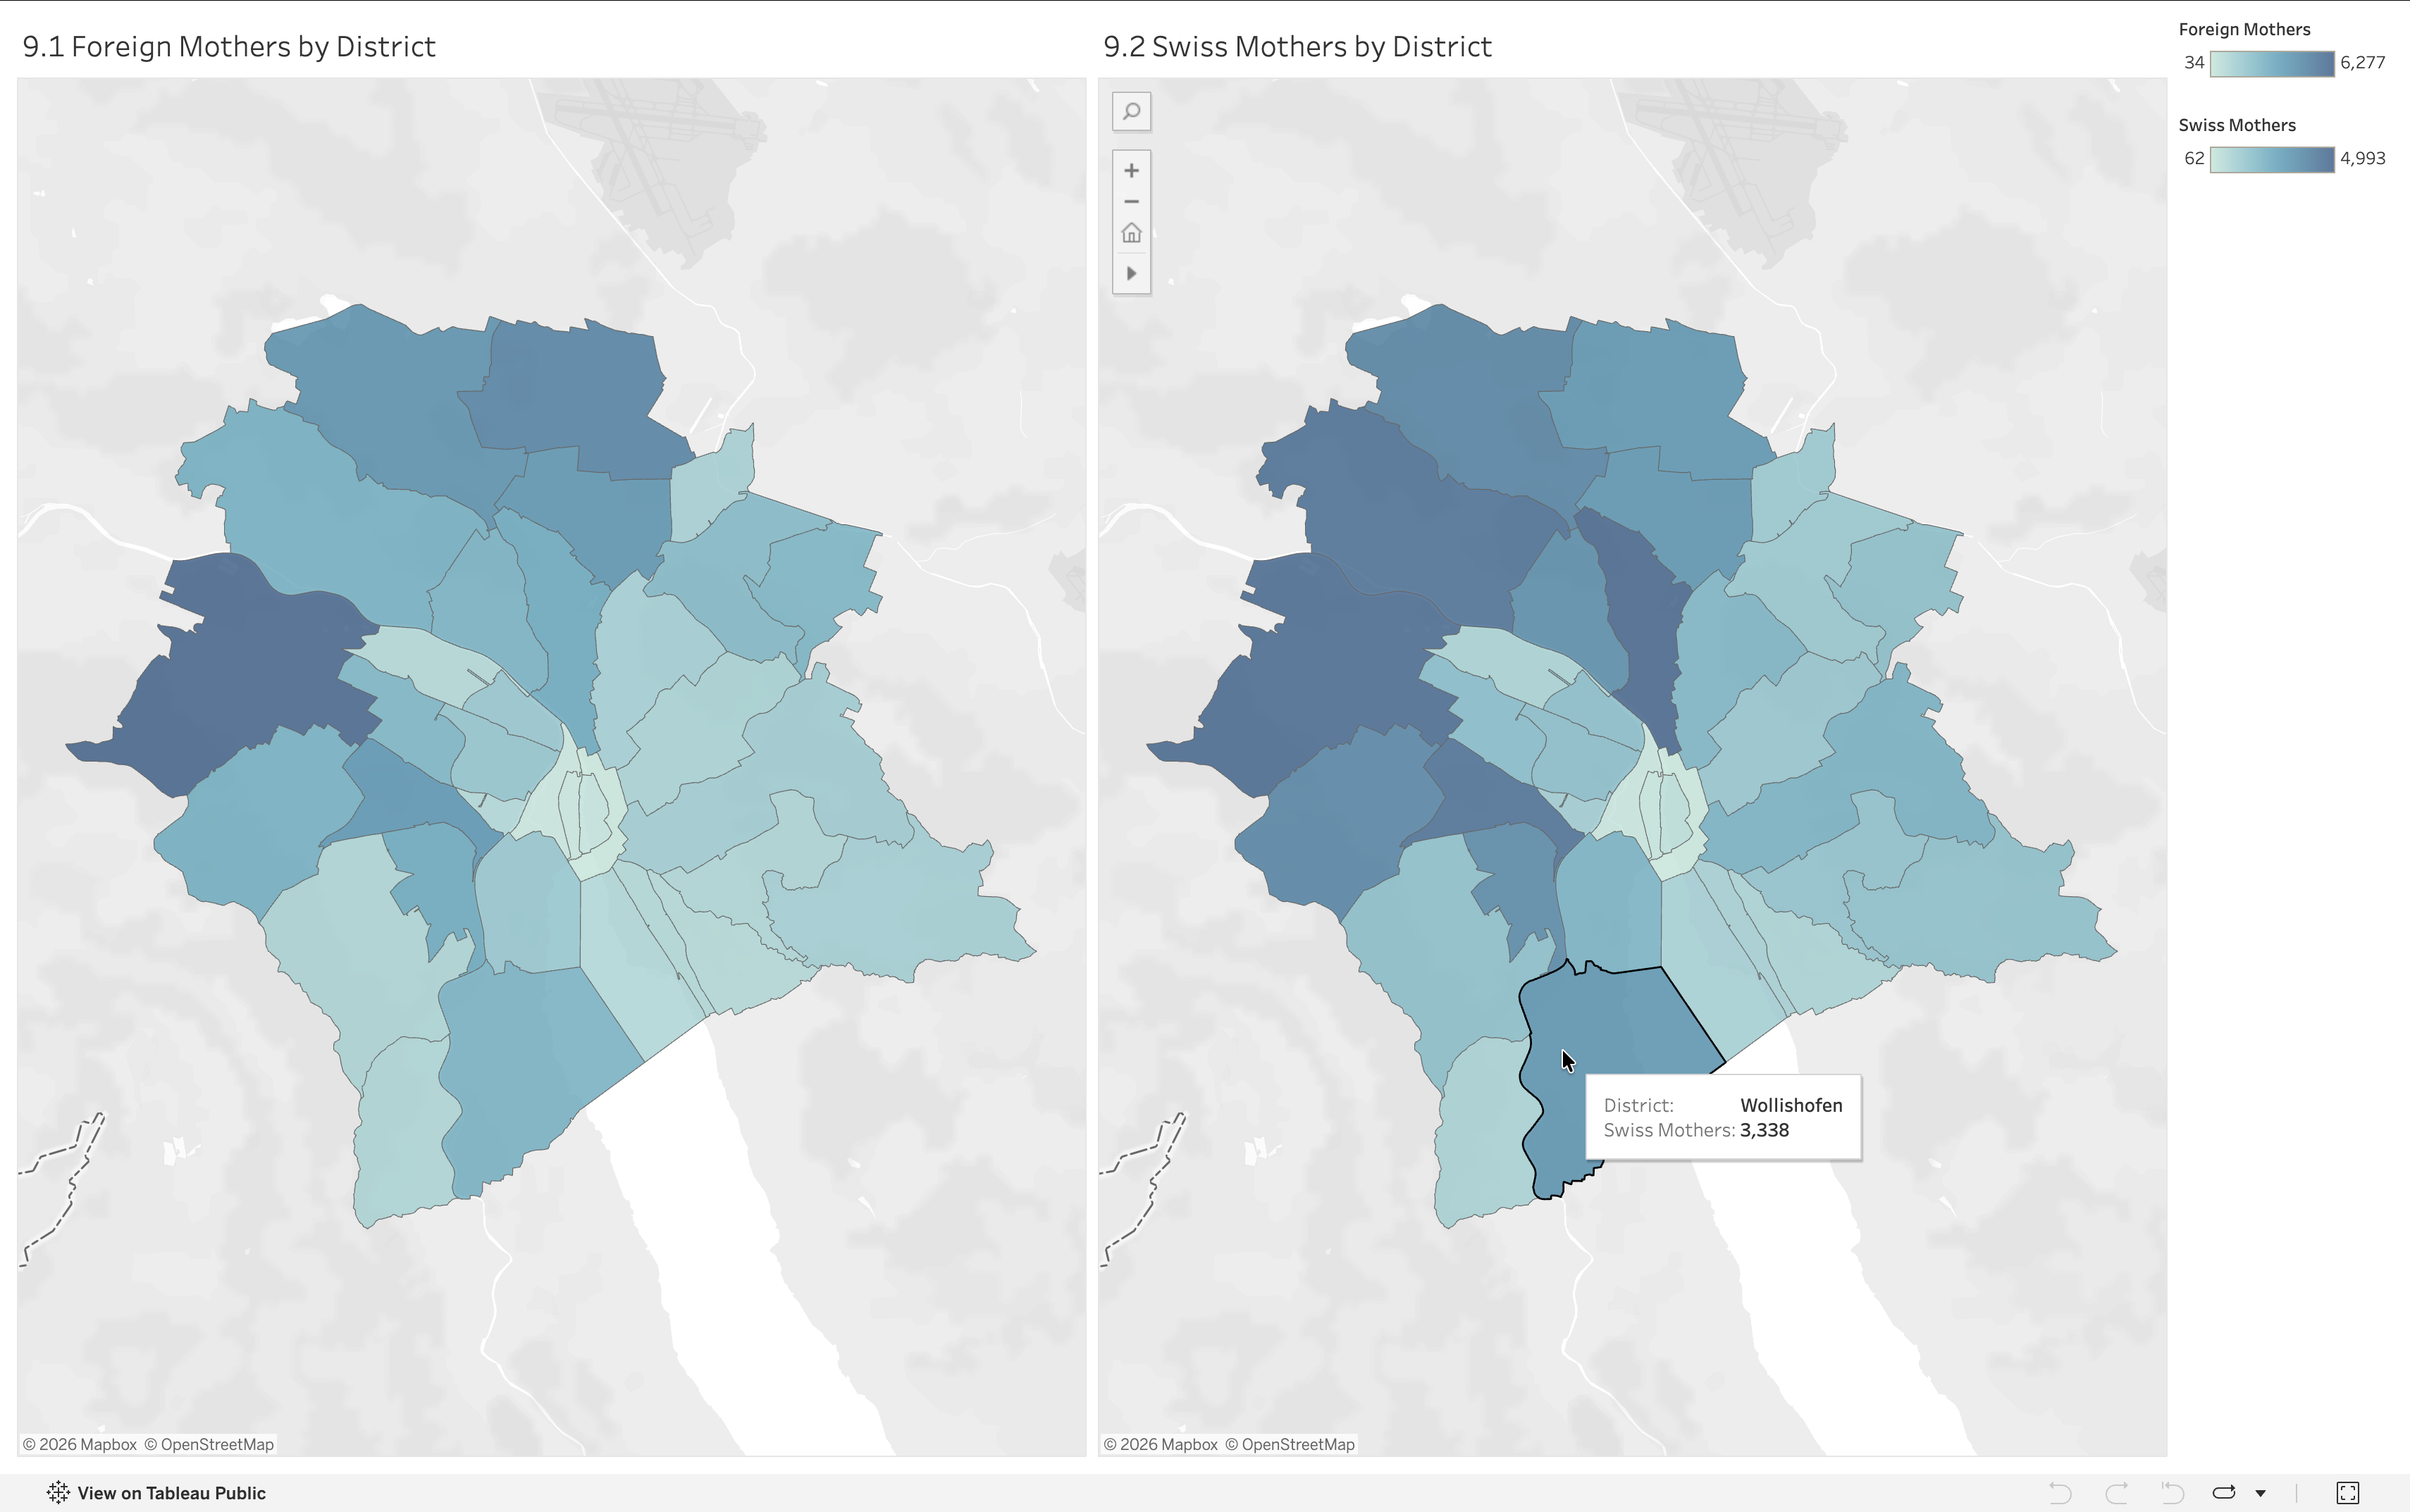

The page's visual inventory and layout, read from the dashboard file:
{"tool":"tableau","page":{"name":"Stadt Zurich Births: Analysis 9","canvas":[1000,1000],"units":"permille","ordinal":9},"visuals":[{"type":"worksheet","title":"9.1 Foreign Mothers by District","mark":"Multipolygon","box":[5.3,9,441.3,982]},{"type":"worksheet","title":"9.2 Swiss Mothers by District","mark":"Automatic","box":[446.6,9,441.3,982]},{"type":"legend","title":"9.1 Foreign Mothers by District","param":"[federated.10klh0m0nsyzlo18g2gj70yz81za].[sum:births:qk]","box":[887.9,9,106.7,73.2]},{"type":"legend","title":"9.2 Swiss Mothers by District","param":"[federated.10klh0m0nsyzlo18g2gj70yz81za].[sum:births (09.2_swiss_mothers_by_dist","box":[887.9,82.2,106.7,73.2]}]}

Visuals, with their boxes on the dashboard's canvas, which has no fixed pixel size, in thousandths of its width and height (x1, y1, x2, y2). These are canvas units, not pixel positions in the 2410x1512 screenshot, which may show the page scaled, cropped or inside an application window:
"9.1 Foreign Mothers by District" worksheet (Multipolygon marks): BBox(5, 9, 447, 991)
"9.2 Swiss Mothers by District" worksheet: BBox(447, 9, 888, 991)
"9.1 Foreign Mothers by District" legend: BBox(888, 9, 995, 82)
"9.2 Swiss Mothers by District" legend: BBox(888, 82, 995, 155)
